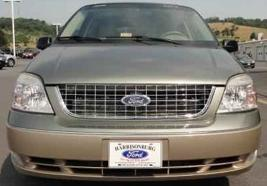front_view: (13, 66, 259, 168)
headlight: (11, 69, 61, 119)
